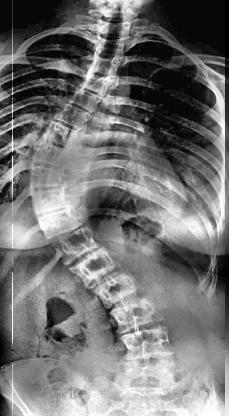Vertebrae: (50, 226, 104, 260), (110, 298, 166, 330), (76, 247, 120, 287), (92, 270, 142, 304), (37, 204, 89, 236), (116, 330, 177, 356), (29, 186, 81, 210), (29, 144, 77, 170), (38, 122, 80, 150), (31, 166, 78, 188), (50, 106, 92, 128), (68, 89, 104, 112), (82, 73, 116, 95), (88, 56, 124, 76), (94, 35, 129, 55)
